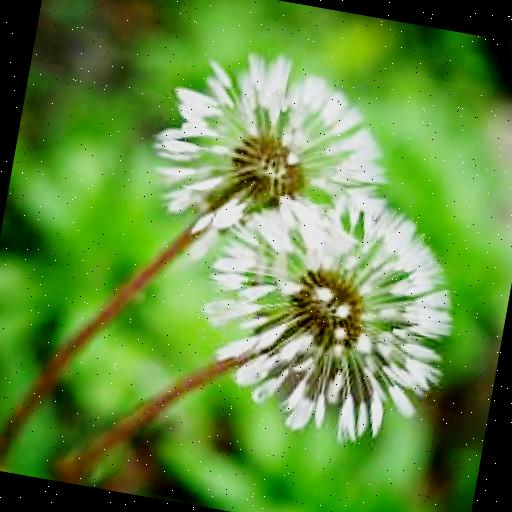dandelion: (190, 167, 476, 458), (137, 36, 394, 280)
